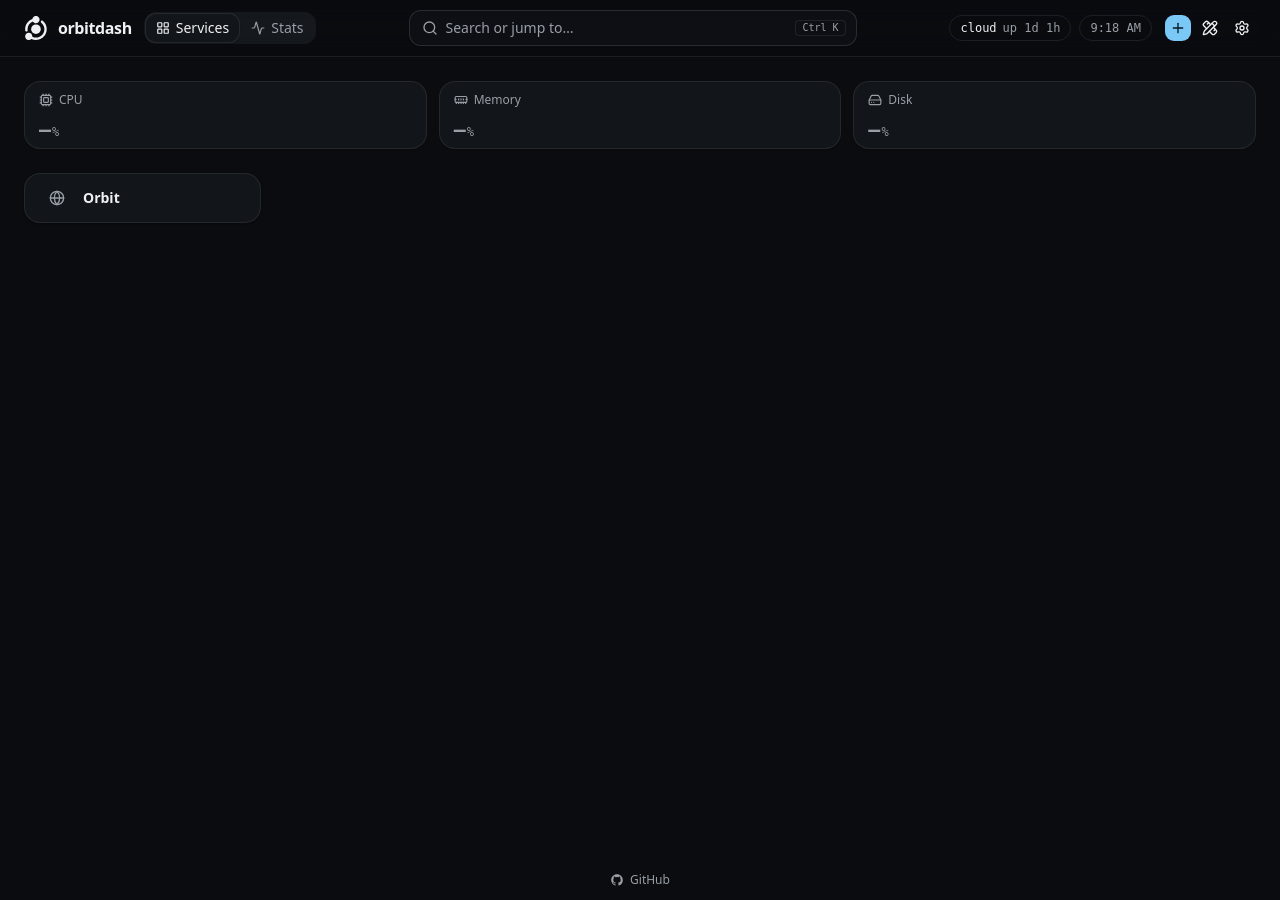
Scenario: App › reports a category that could not be created
Click the button named "Edit layout": (1210, 28) [1196, 14, 1224, 42]
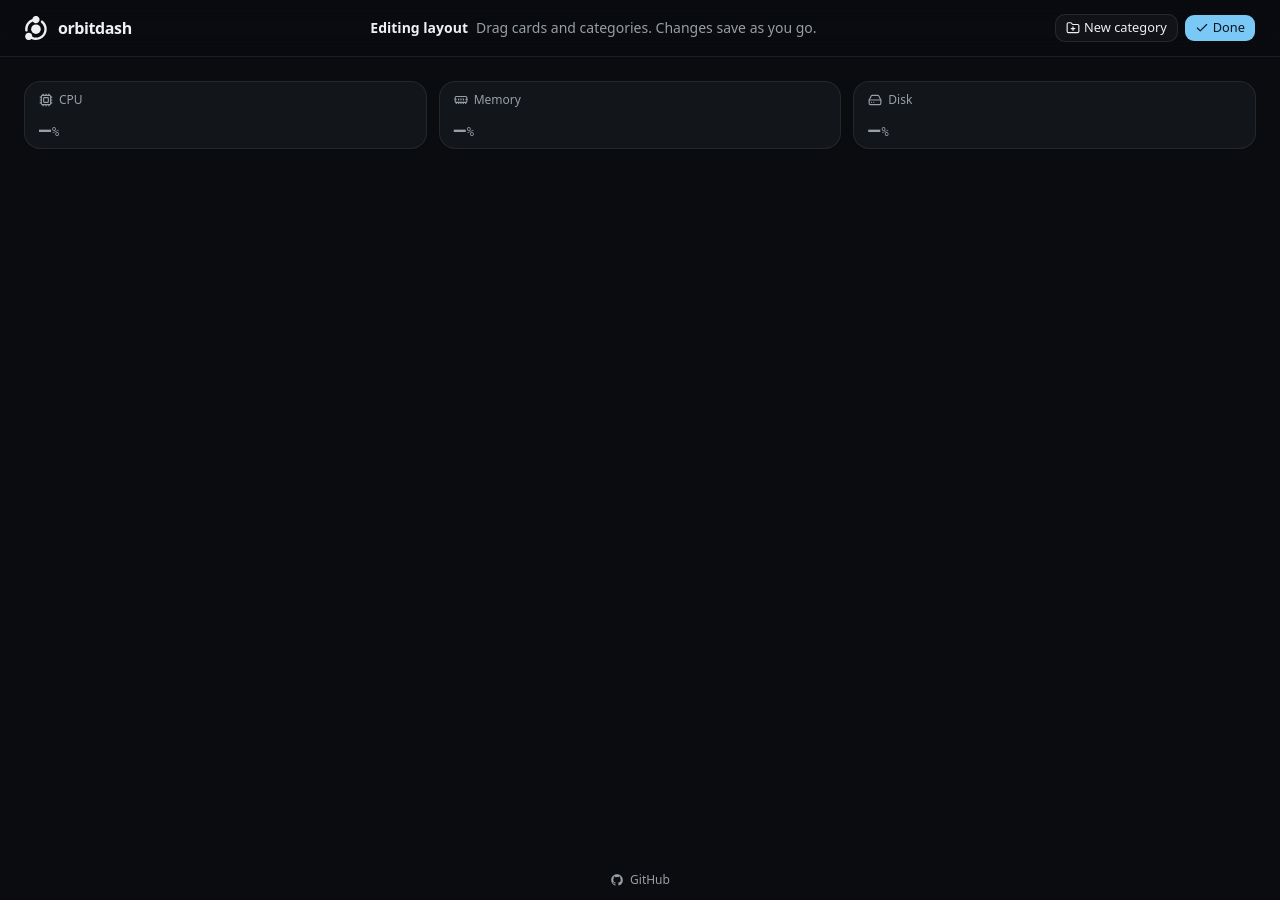
Click the button "New category": (1116, 28) [1055, 14, 1178, 42]
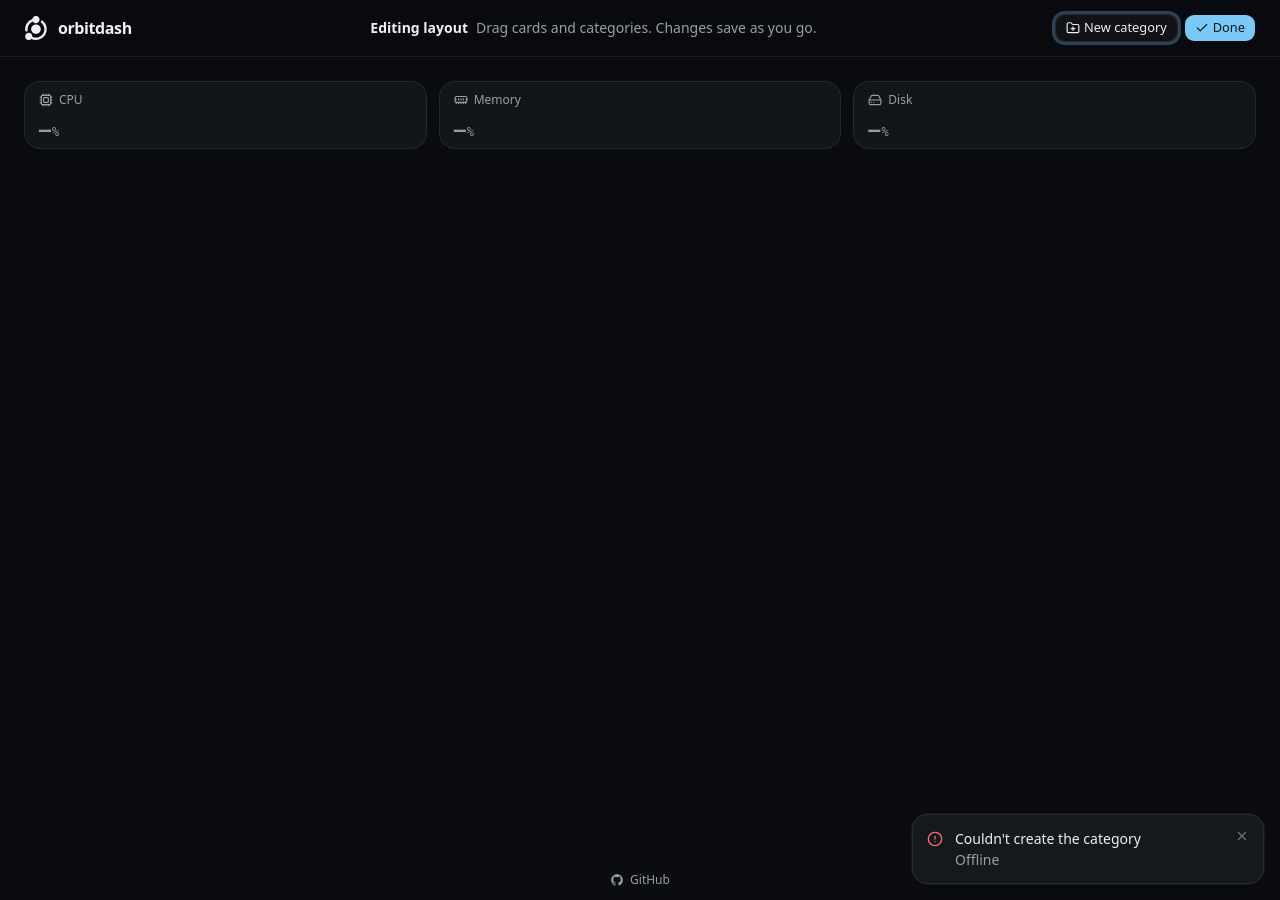
Expected: the text "Couldn't create the category" is shown, [955, 828, 1141, 848]
